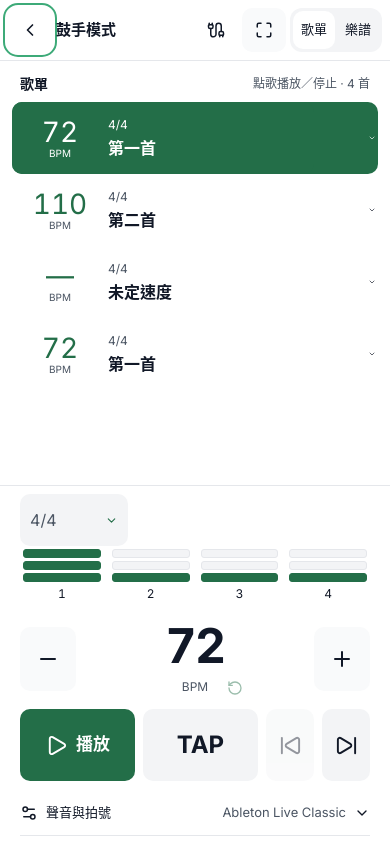
Test: uses previous/next to start songs directly and disables setlist boundaries
Check: the button named "上一首" is disabled, box [266, 709, 314, 781]
Click the button named "下一首": (346, 745) [322, 709, 370, 781]
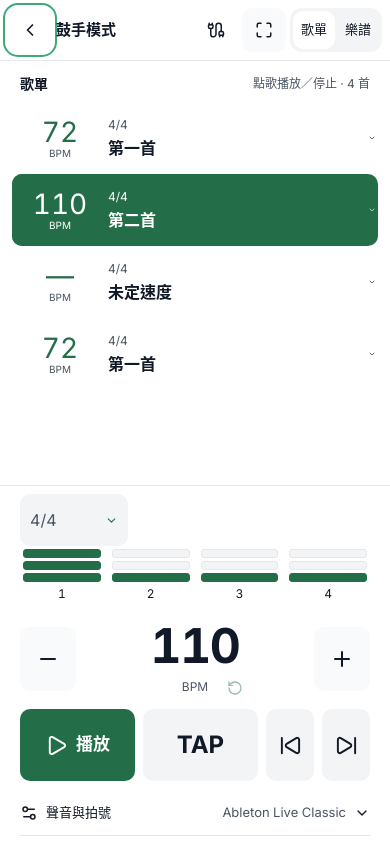
Check: the field named "節拍器速度 BPM" holds "110", box [88, 620, 302, 673]
Click the button named "上一首": (290, 745) [266, 709, 314, 781]
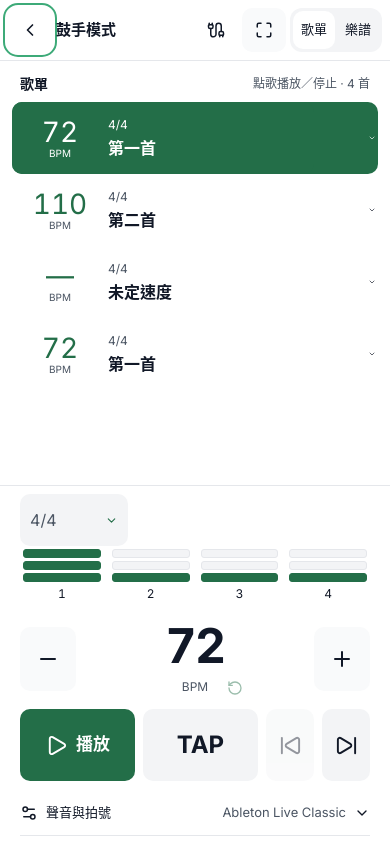
Check: the field named "節拍器速度 BPM" holds "72", box [88, 620, 302, 673]
Click the 2nd button "72 BPM 4/4 第一首": (60, 348) [12, 318, 314, 390]
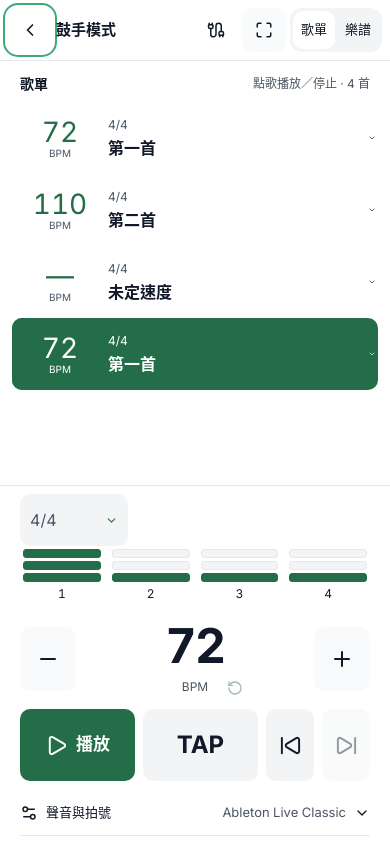
Check: the button named "下一首" is disabled, box [322, 709, 370, 781]
